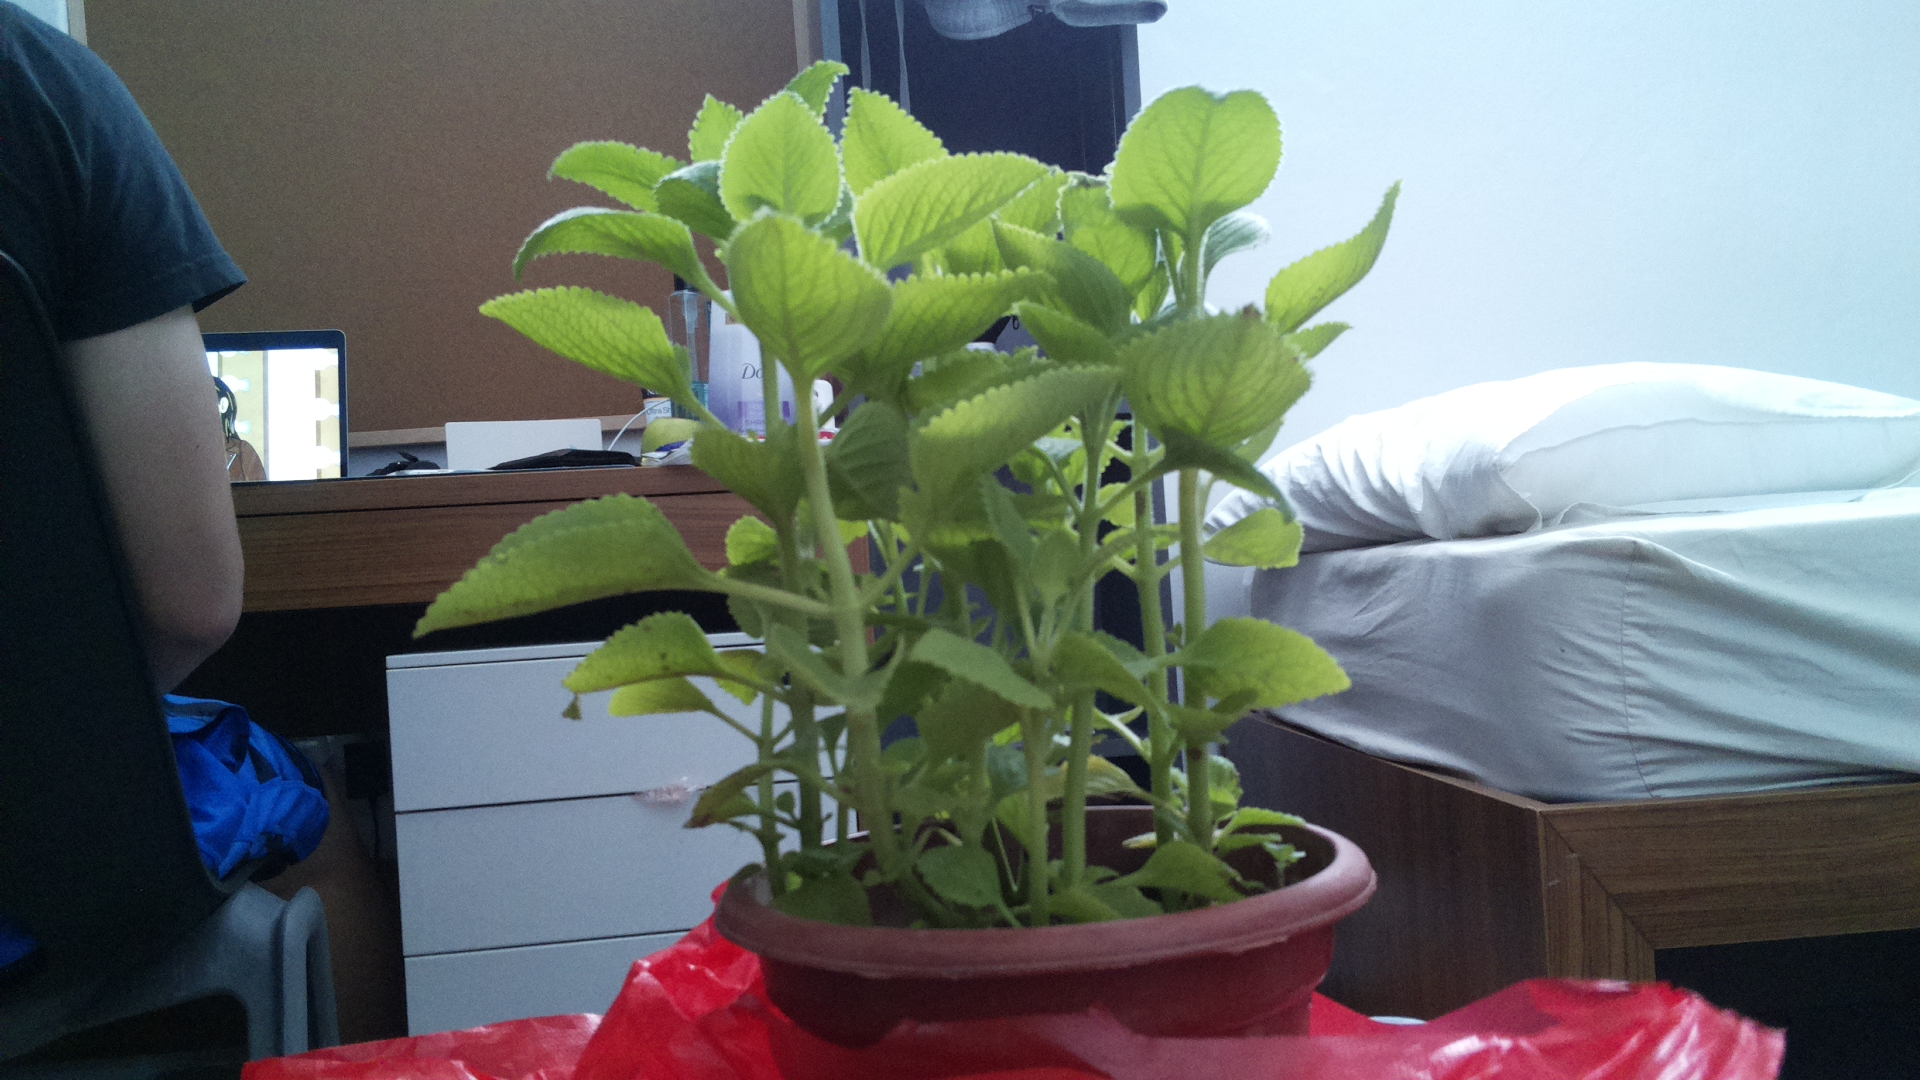leaf: (411, 497, 704, 644), (1121, 293, 1316, 462), (849, 133, 1063, 280), (913, 345, 1127, 481), (469, 281, 688, 404), (727, 219, 887, 378), (1265, 178, 1416, 345), (1112, 83, 1279, 229), (1178, 613, 1364, 702), (721, 102, 849, 223), (911, 626, 1063, 717), (524, 203, 704, 278), (564, 615, 711, 702), (547, 127, 683, 214)
